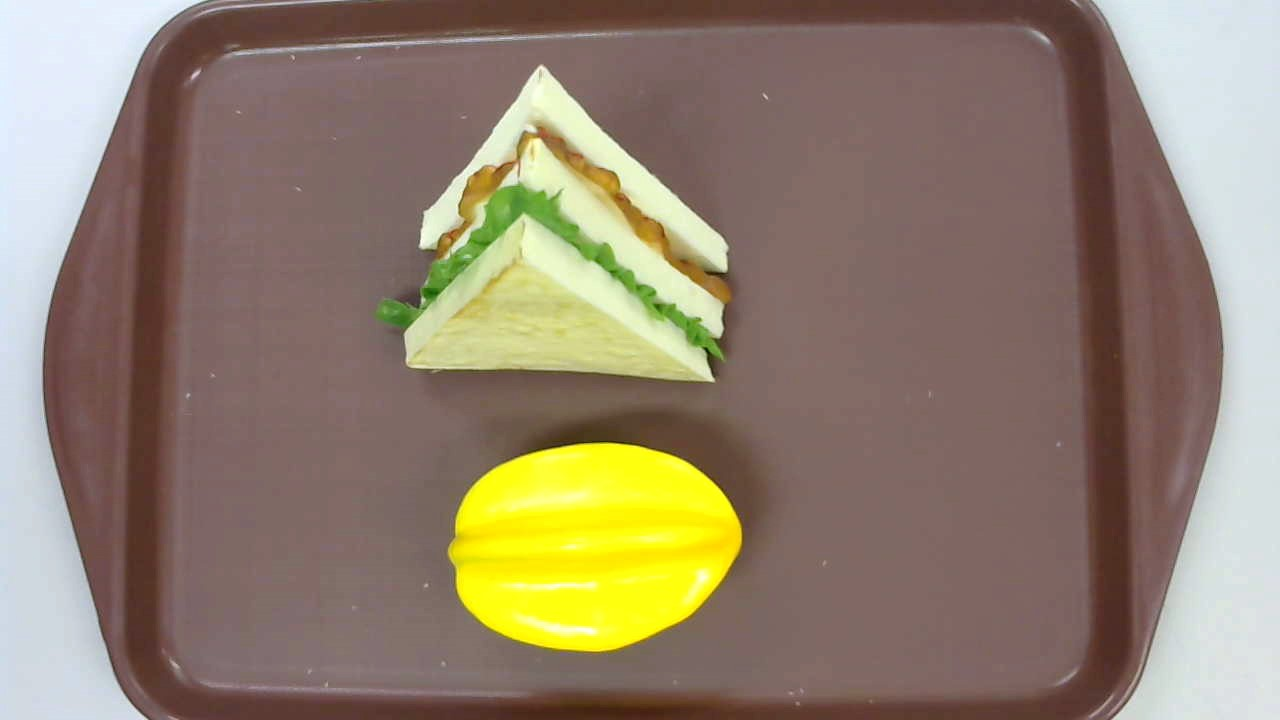sandwich: (376, 65, 732, 382)
star fruit: (446, 441, 744, 653)
